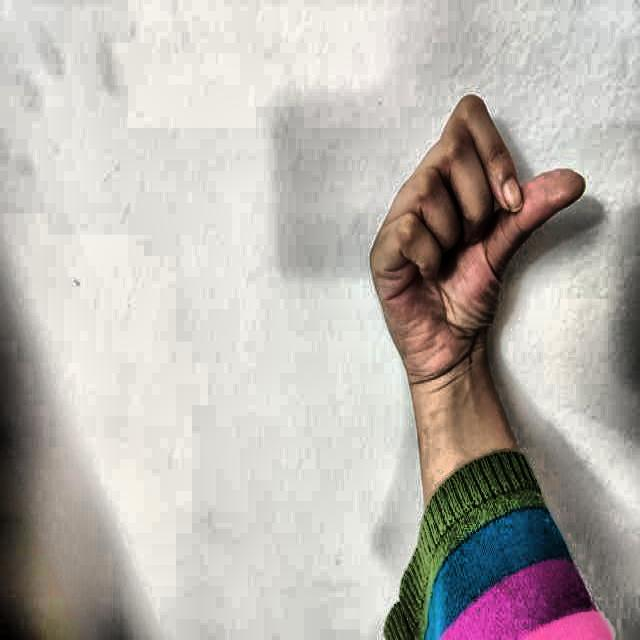Ay: (344, 58, 601, 417)
